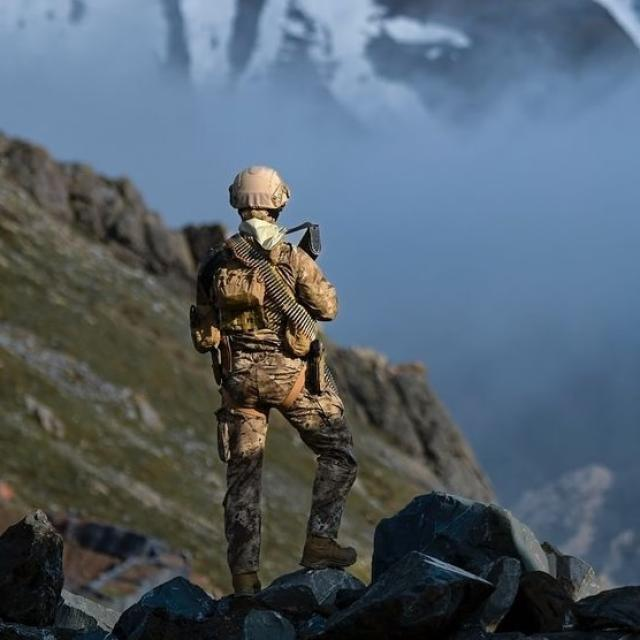poh_personel: (191, 165, 358, 596)
